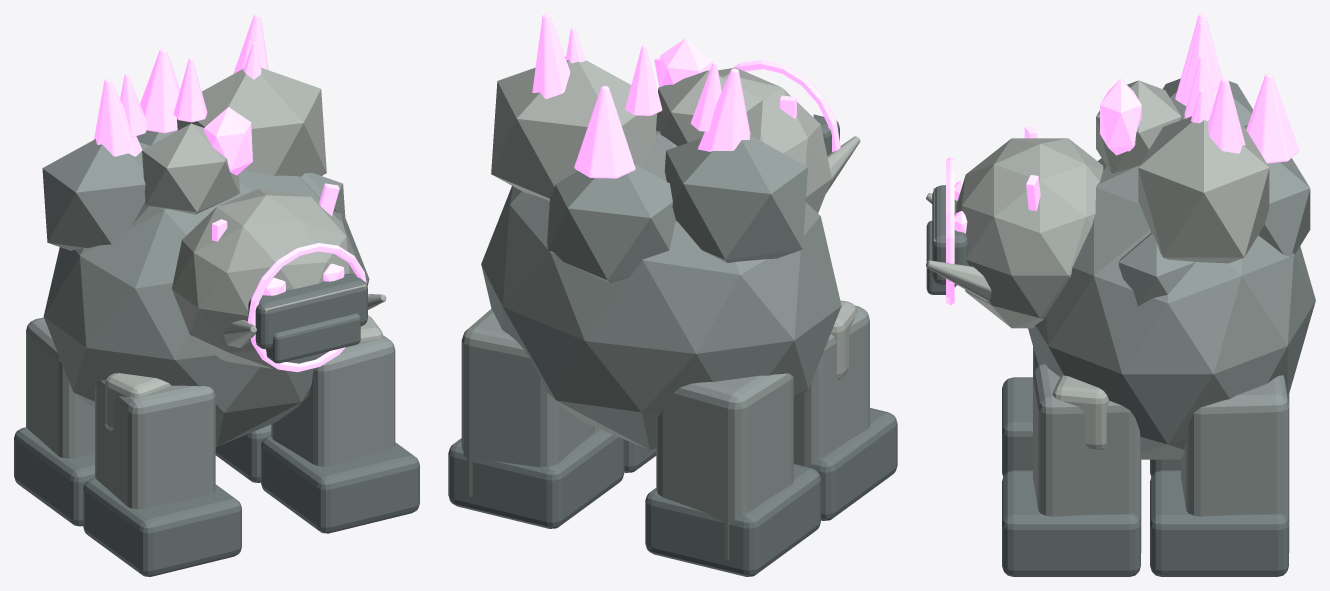
Rendered from boulderback.glb.
3 views of the same model, side by side, from view 1: azimuth 30°, elevation 25°; view 2: azimuth 150°, elevation 25°; view 3: azimuth 270°, elevation 25° (orthographic). The views are drawn at different scales.
Parts seen in each view (by area): view 1: MainBoulder, Head.003, Leg_-0.49_-0.33, Leg_0.49_-0.33, Foot_-0.49_-0.33, Foot_0.49_-0.33, ShellRock_1, ShellRock_0, ShellRock_3, Leg_-0.49_0.33, JawPlate, Foot_-0.49_0.33 (+12 smaller); view 2: MainBoulder, Leg_-0.49_0.33, ShellRock_0, Leg_0.49_0.33, ShellRock_1, ShellRock_2, Foot_-0.49_0.33, Foot_0.49_0.33, Leg_-0.49_-0.33, Foot_-0.49_-0.33, Head.003, RiftCrystal_2 (+10 smaller); view 3: MainBoulder, Head.003, ShellRock_1, Leg_0.49_0.33, Leg_0.49_-0.33, Foot_0.49_0.33, Foot_0.49_-0.33, ShellRock_2, ShellRock_3, Foot_-0.49_-0.33, ShellRock_4, RiftCrystal_2 (+11 smaller).
Part boxes in pixels (<box>): MainBoulder: <box>43,170,369,446</box>; Head.003: <box>172,188,356,368</box>; Leg_-0.49_-0.33: <box>95,380,215,509</box>; Leg_0.49_-0.33: <box>271,335,395,466</box>; Foot_-0.49_-0.33: <box>83,478,241,576</box>; Foot_0.49_-0.33: <box>261,435,419,533</box>; ShellRock_1: <box>177,67,326,176</box>; ShellRock_0: <box>42,139,149,250</box>; ShellRock_3: <box>142,123,239,214</box>; Leg_-0.49_0.33: <box>26,317,94,458</box>; JawPlate: <box>248,273,367,349</box>; Foot_-0.49_0.33: <box>14,427,94,526</box>; MainBoulder: <box>481,130,841,449</box>; Leg_-0.49_0.33: <box>656,373,793,560</box>; ShellRock_0: <box>664,135,807,263</box>; Leg_0.49_0.33: <box>461,309,594,497</box>; ShellRock_1: <box>491,57,656,200</box>; ShellRock_2: <box>547,164,675,283</box>; Foot_-0.49_0.33: <box>645,464,820,576</box>; Foot_0.49_0.33: <box>448,427,624,528</box>; Leg_-0.49_-0.33: <box>793,305,869,467</box>; Foot_-0.49_-0.33: <box>793,408,897,520</box>; Head.003: <box>718,67,831,212</box>; RiftCrystal_2: <box>574,86,635,178</box>; MainBoulder: <box>1028,158,1315,459</box>; Head.003: <box>956,138,1103,328</box>; ShellRock_1: <box>1138,116,1269,263</box>; Leg_0.49_0.33: <box>1181,375,1289,552</box>; Leg_0.49_-0.33: <box>1033,363,1141,552</box>; Foot_0.49_0.33: <box>1150,470,1288,576</box>; Foot_0.49_-0.33: <box>1002,470,1140,576</box>; ShellRock_2: <box>1258,158,1310,256</box>; ShellRock_3: <box>1096,80,1181,173</box>; Foot_-0.49_-0.33: <box>1002,377,1032,476</box>; ShellRock_4: <box>1118,232,1194,306</box>; RiftCrystal_2: <box>1246,73,1299,163</box>.
Size of the model in its own units: 1.57 by 2.31 by 1.74.
